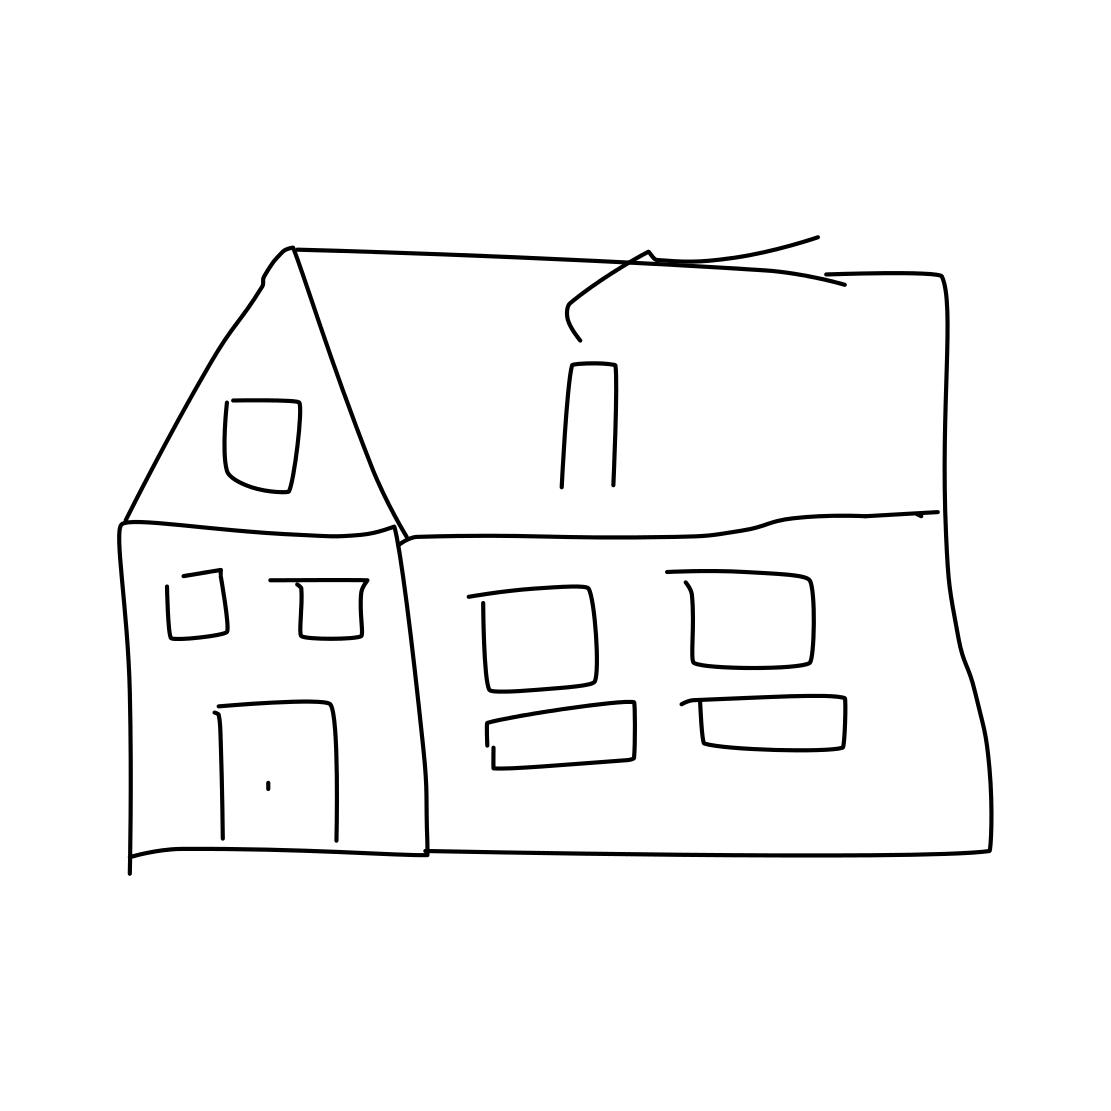House: (51, 189, 1027, 887)
